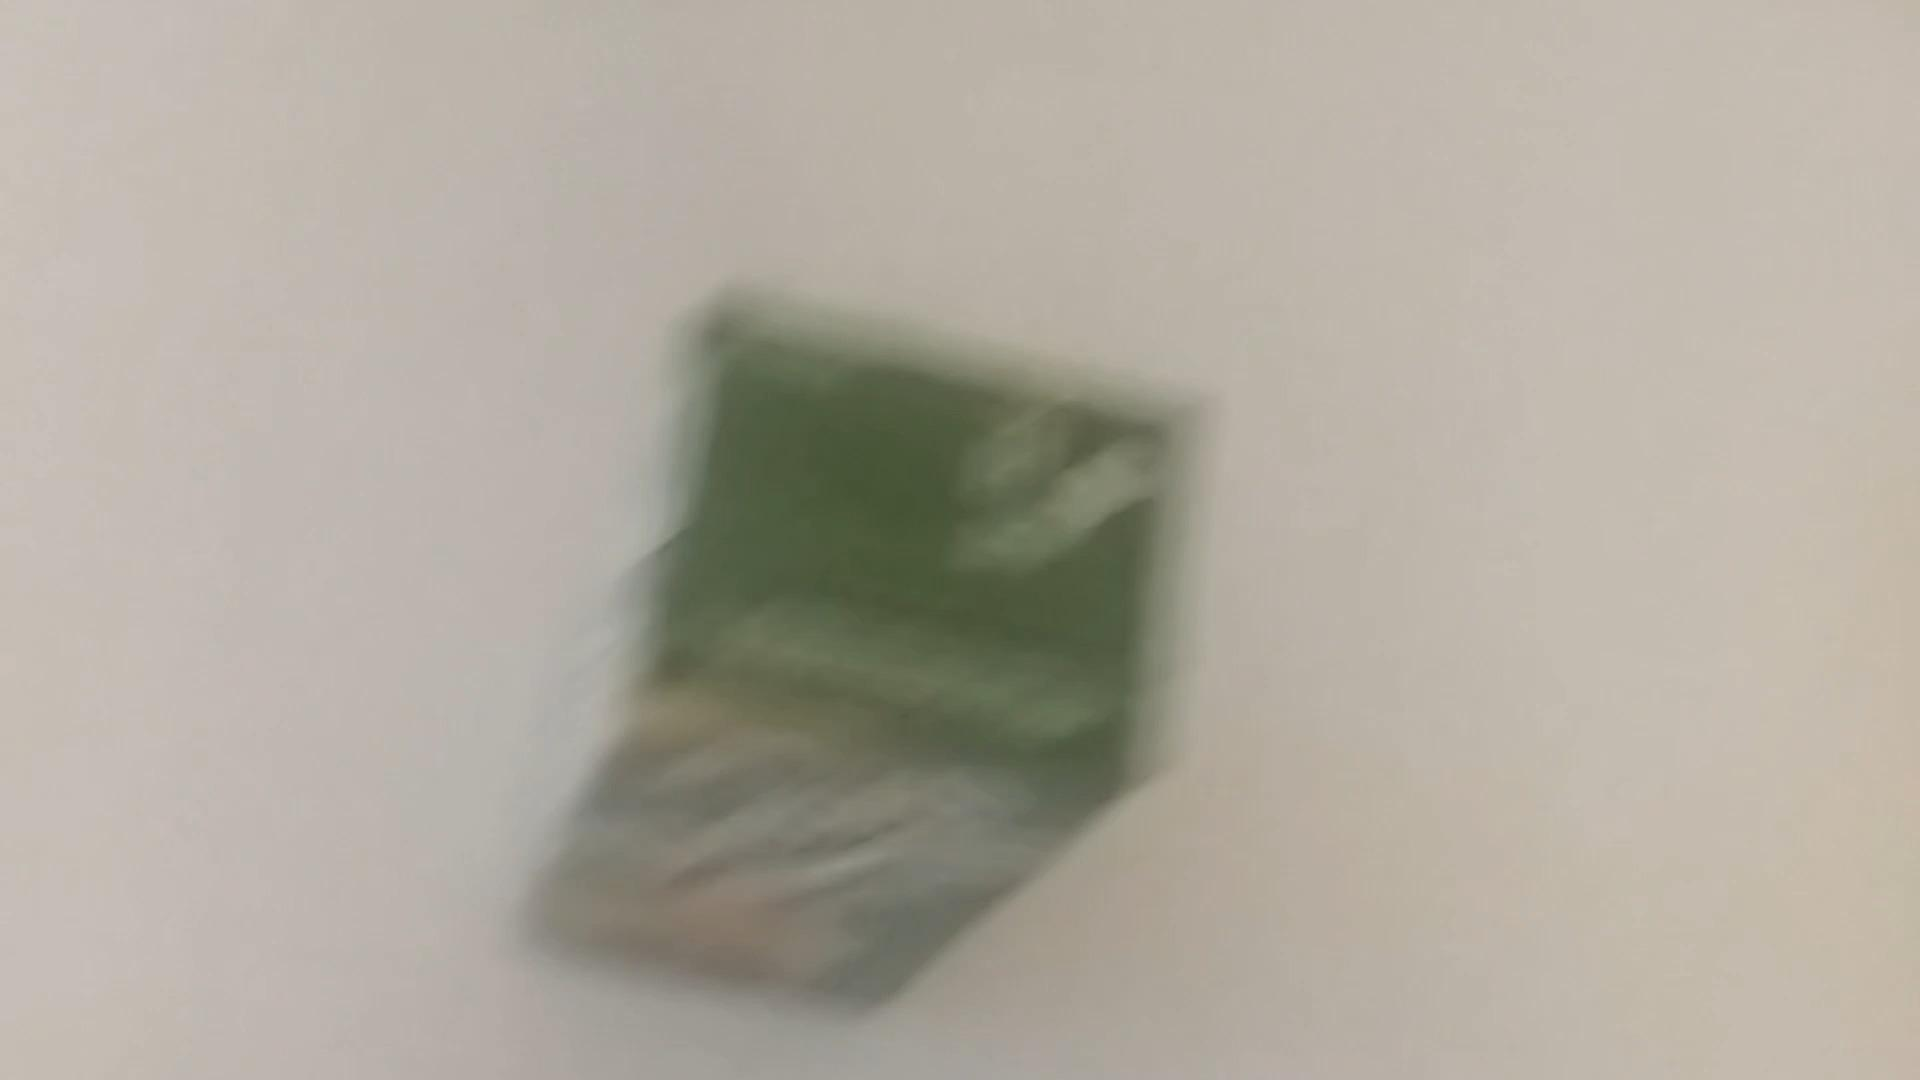coco: (513, 298, 1211, 1021)
